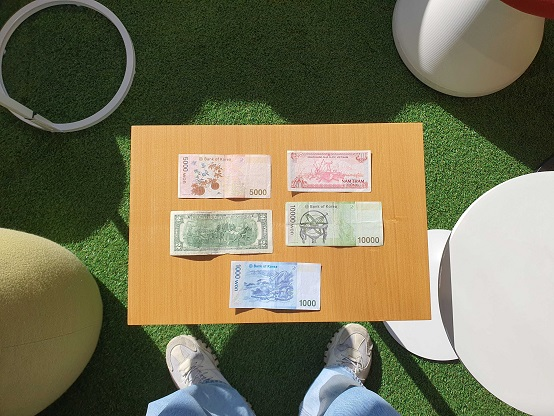10000won: (285, 202, 384, 247)
1000won: (228, 259, 321, 310)
2dollar: (170, 209, 273, 254)
5000won: (177, 154, 270, 198)
500vnd: (286, 150, 372, 193)
